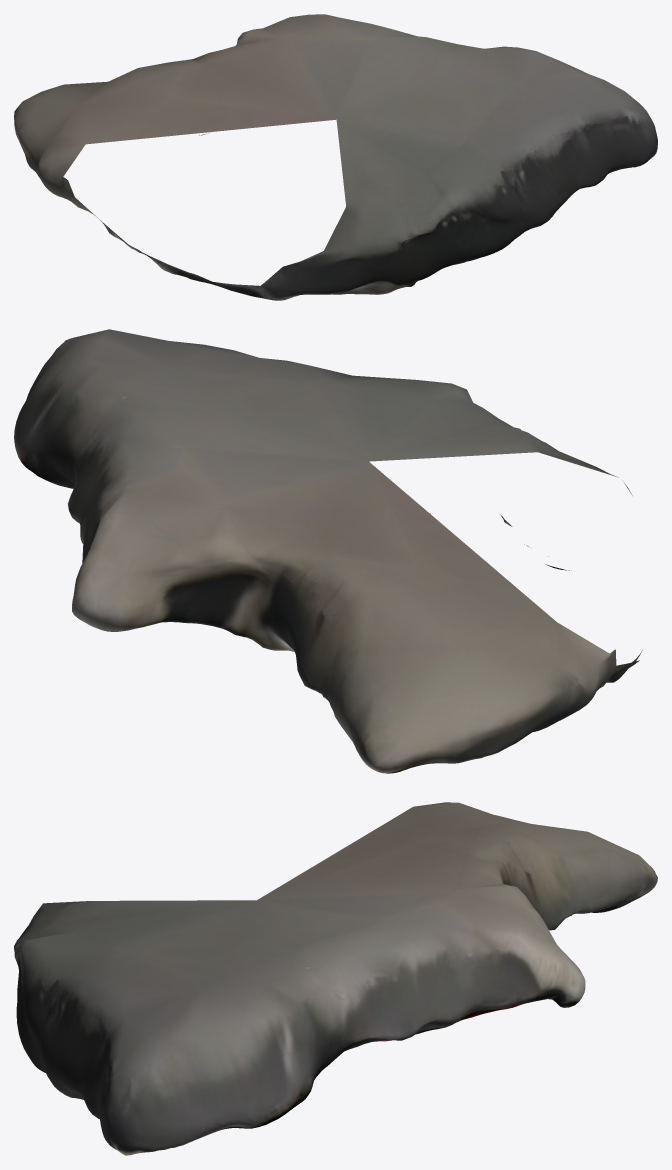
The picture shows the model from 3 angles, top to bottom: view 1: azimuth 30°, elevation 25°; view 2: azimuth 150°, elevation 25°; view 3: azimuth 270°, elevation 25°; orthographic projection. The views are drawn at different scales.
Size of the model in its own units: 0.4408 by 0.1149 by 0.3761.
Materials: 1 (1 with a texture image).
